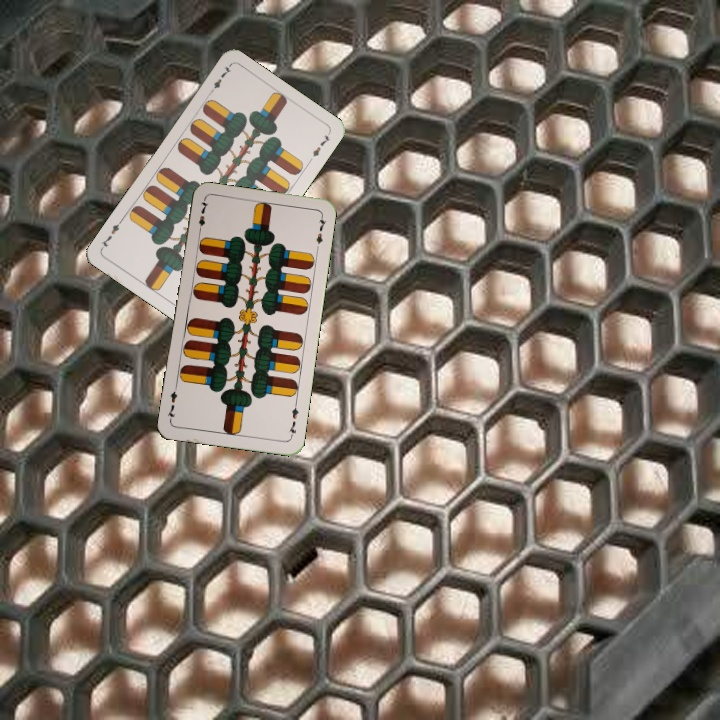E7: (205, 62, 234, 97), (194, 196, 211, 237), (285, 400, 301, 440)
